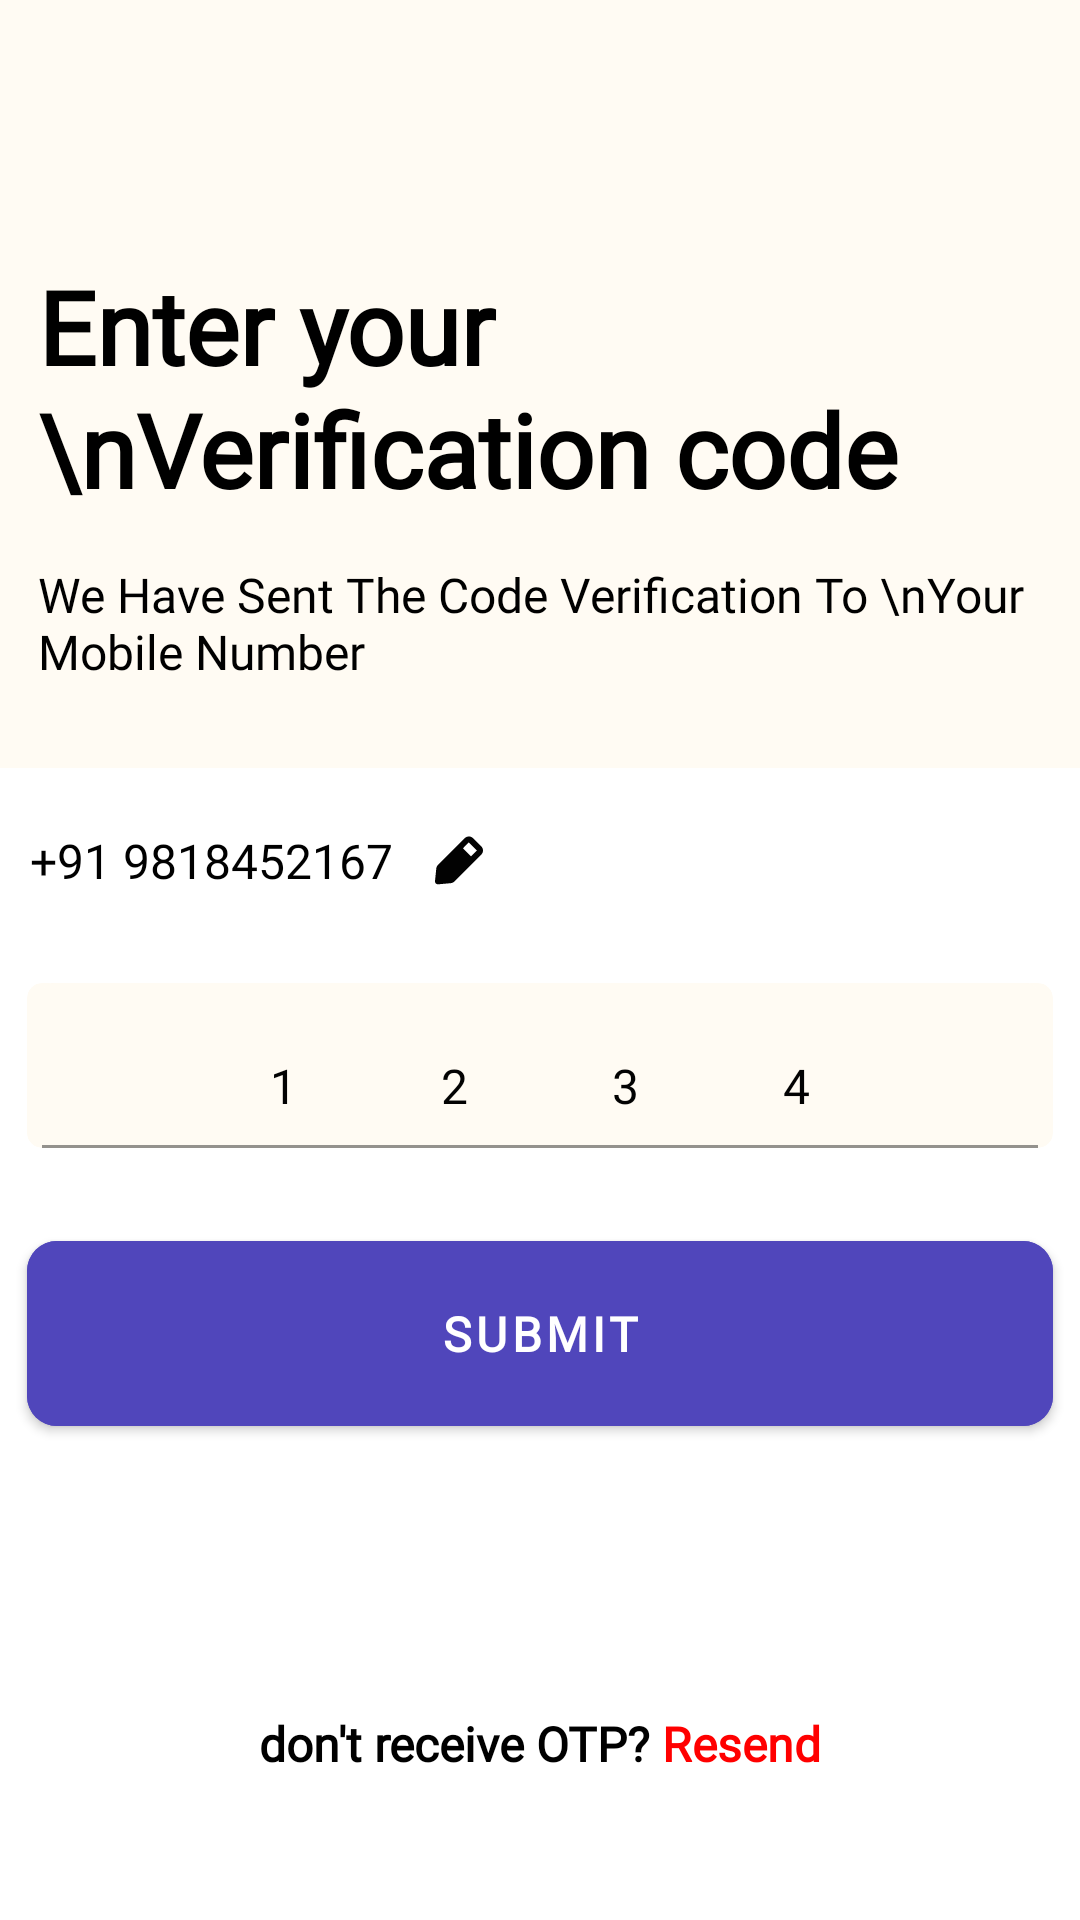

Icons on this 1080x1920 Android screen, each with its box as (x1, y1, x2, y2):
editbtn: (435, 836, 483, 885)
